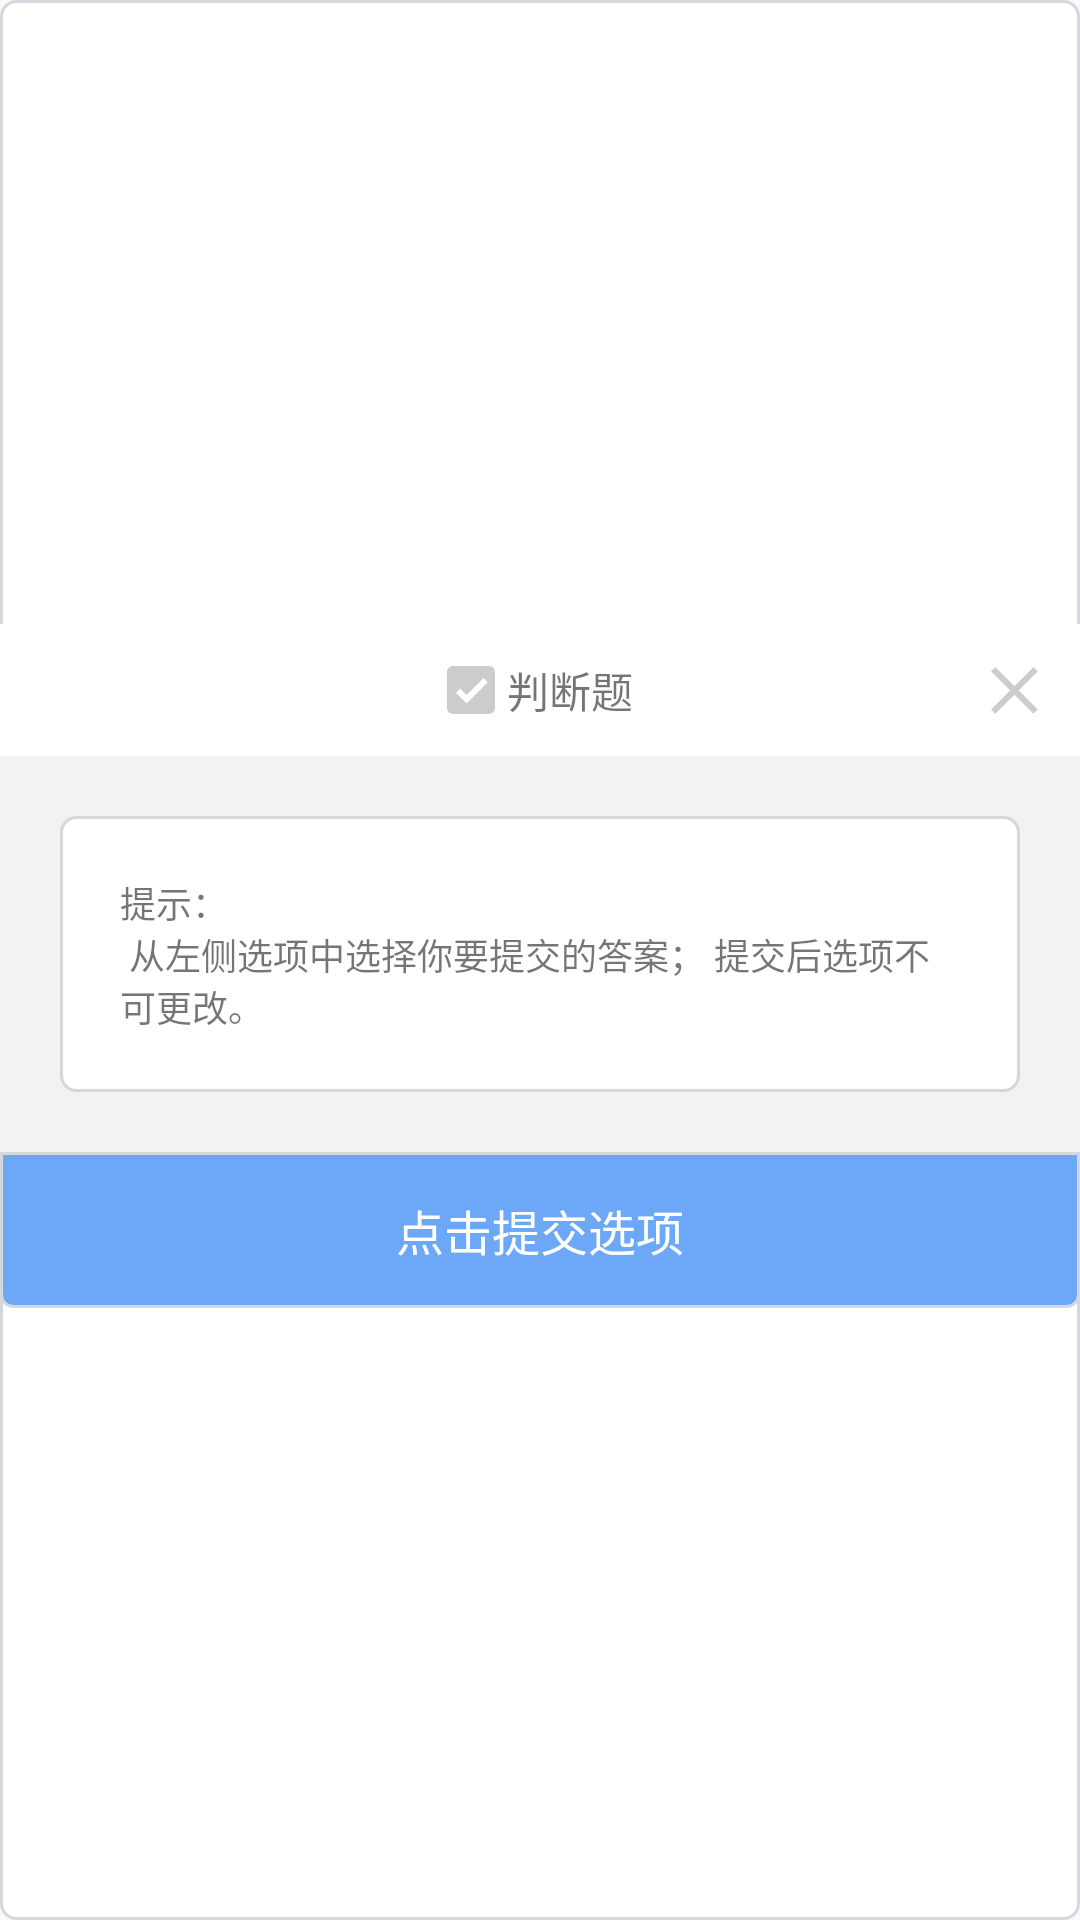

Named icons in this screenshot (1080px x 1920px) and their bounding boxes, (x1, y1, x2, y2):
answer close: (991, 667, 1038, 714)
